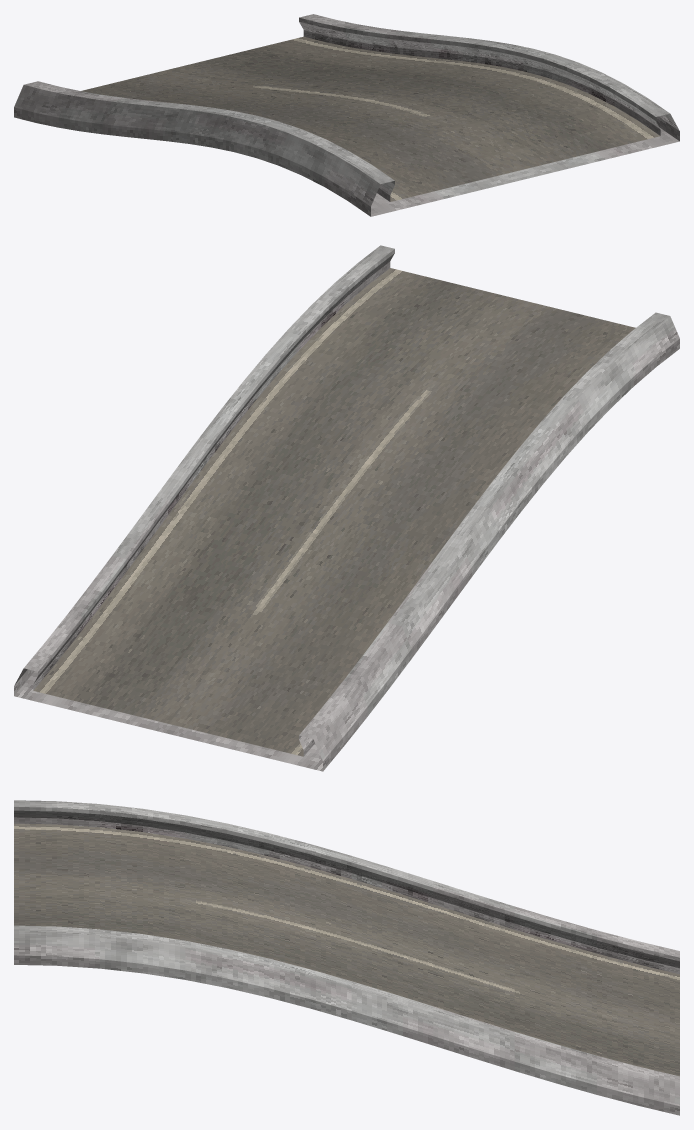
The model's file is road-Straight-Flat-BiSlopeDown-Down2-Center-Size2.glb.
3 renders of one model, top to bottom at view 1: azimuth 30°, elevation 25°; view 2: azimuth 150°, elevation 25°; view 3: azimuth 270°, elevation 25°, orthographic. The views are drawn at different scales.
Parts seen in each view (by area): view 1: road-Straight-Flat-BiSlopeDown-Down2-Center-Size2; view 2: road-Straight-Flat-BiSlopeDown-Down2-Center-Size2; view 3: road-Straight-Flat-BiSlopeDown-Down2-Center-Size2.
Boxes of the visible parts, <box> form: road-Straight-Flat-BiSlopeDown-Down2-Center-Size2: <box>14,14,679,216</box>; road-Straight-Flat-BiSlopeDown-Down2-Center-Size2: <box>14,245,679,771</box>; road-Straight-Flat-BiSlopeDown-Down2-Center-Size2: <box>14,800,679,1115</box>.
Size of the model in its own units: 1 by 0.5938 by 2.
Materials: 2 (2 with a texture image).
